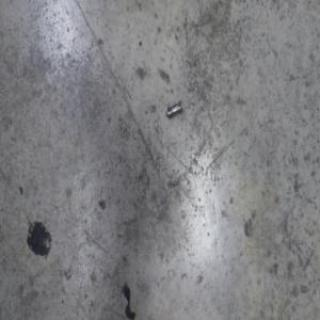Bolttrack_idkeyframe: (165, 101, 182, 121)
